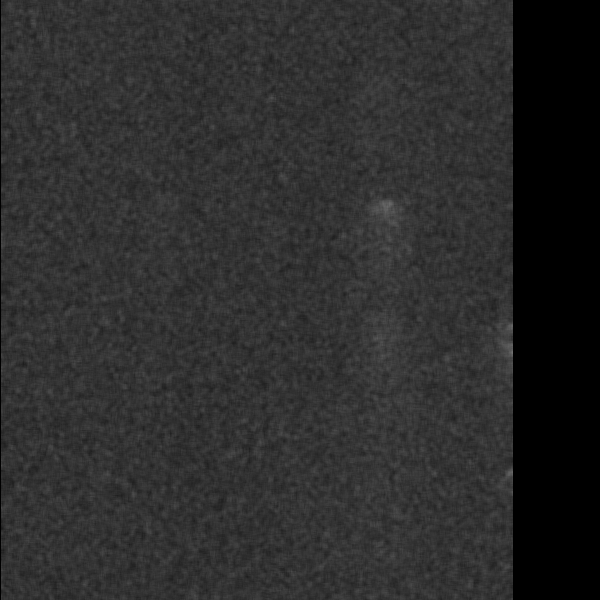spark: (368, 191, 398, 220)
